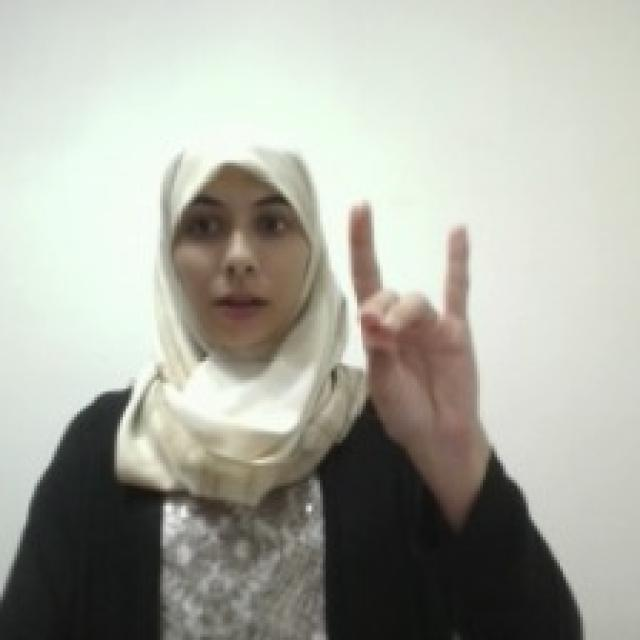Dog: (344, 194, 485, 447)
